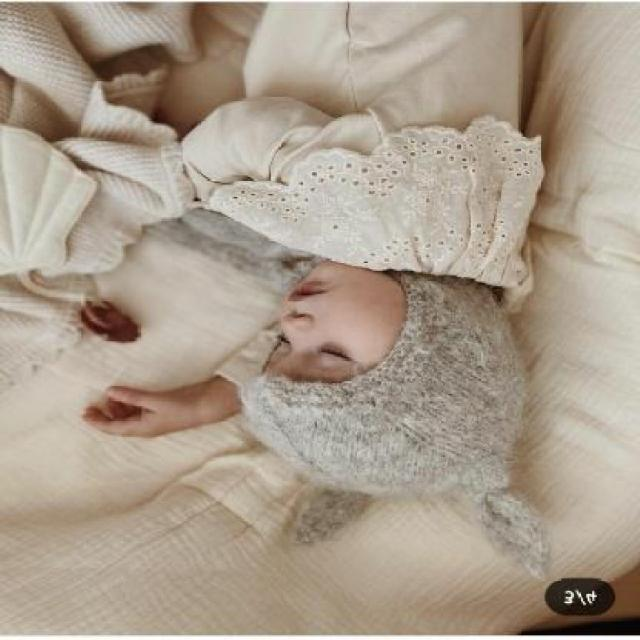child: (176, 2, 545, 502)
